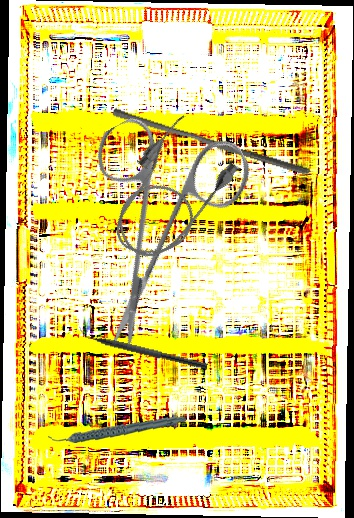Cannula: (91, 108, 247, 276)
Chopper: (75, 324, 211, 370)
Handpiece: (47, 406, 187, 451)
Iris Scissors: (22, 78, 297, 351)
Pusher: (109, 107, 314, 177)
